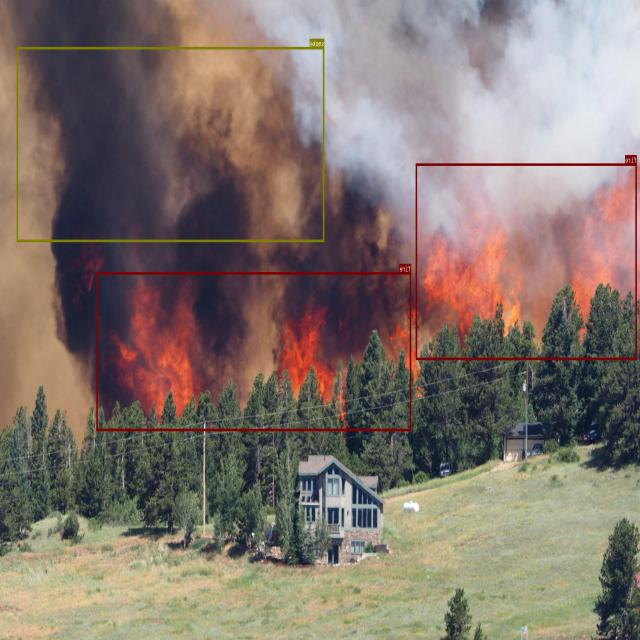fire: (97, 272, 411, 431), (416, 163, 637, 360)
smoke: (17, 47, 325, 241)
